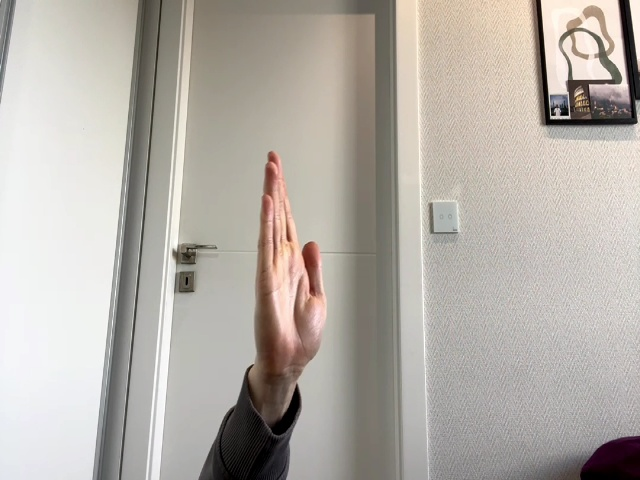SZ: (256, 151, 327, 385)
